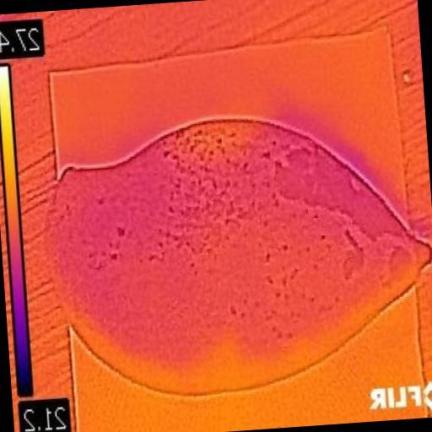mango: (49, 119, 430, 393)
